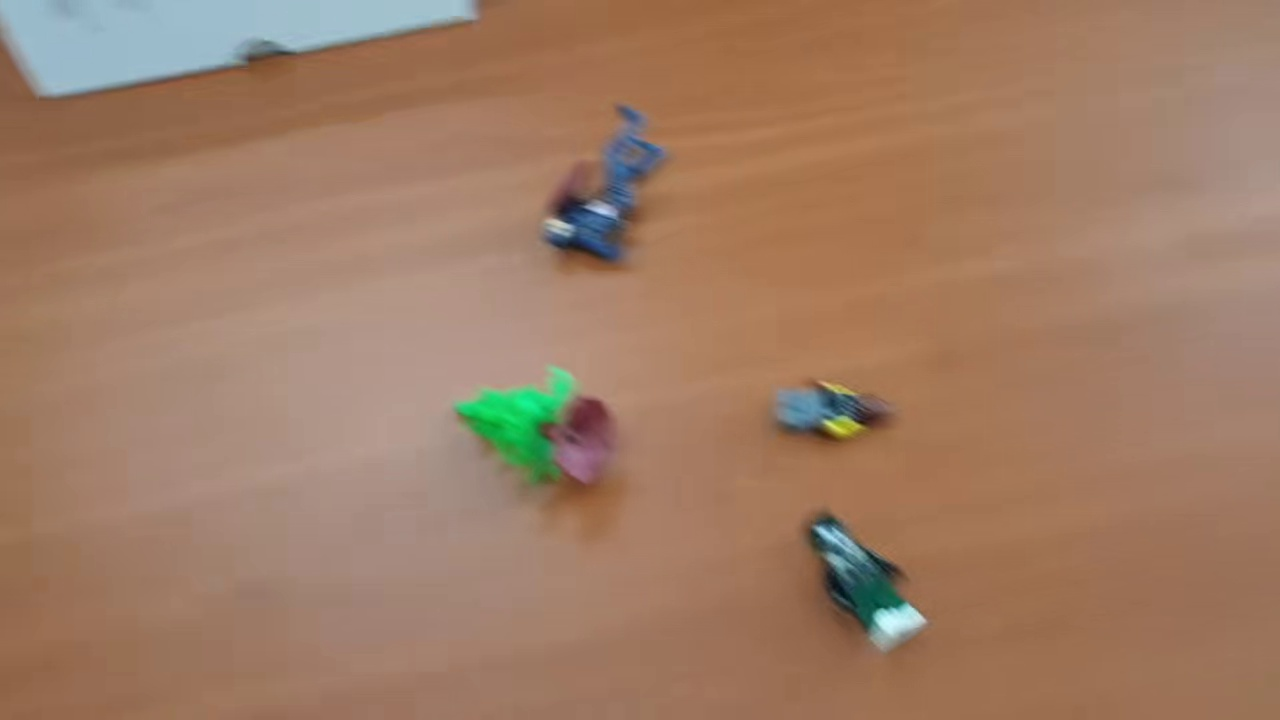people: (535, 97, 673, 263), (800, 508, 930, 656), (765, 371, 895, 443)
tree: (450, 361, 615, 497)
